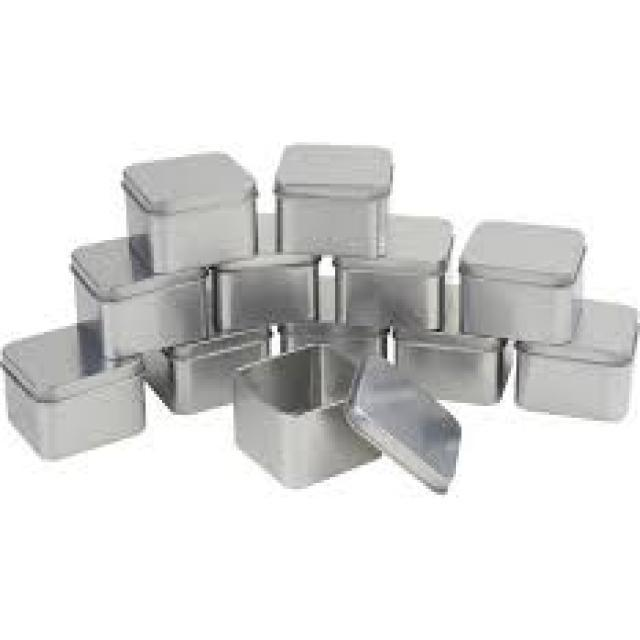recyclable: (232, 344, 382, 491), (0, 322, 147, 460), (135, 289, 280, 417), (66, 234, 212, 357), (345, 349, 462, 494), (122, 151, 258, 274), (458, 218, 587, 344), (331, 212, 455, 332), (272, 143, 394, 261), (210, 214, 324, 330)
